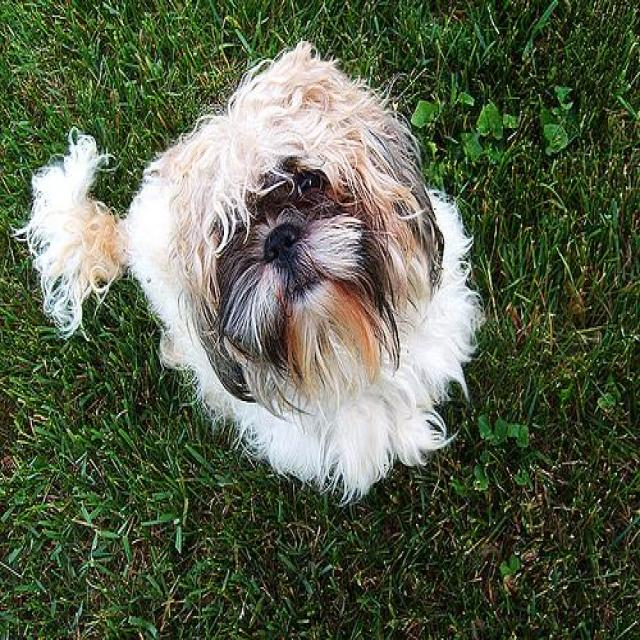shih_tzu: (9, 39, 486, 510)
